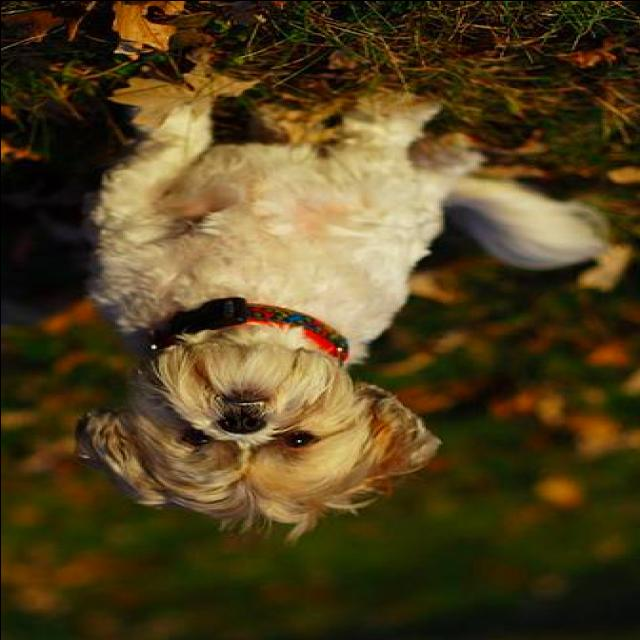shih_tzu: (70, 93, 610, 550)
